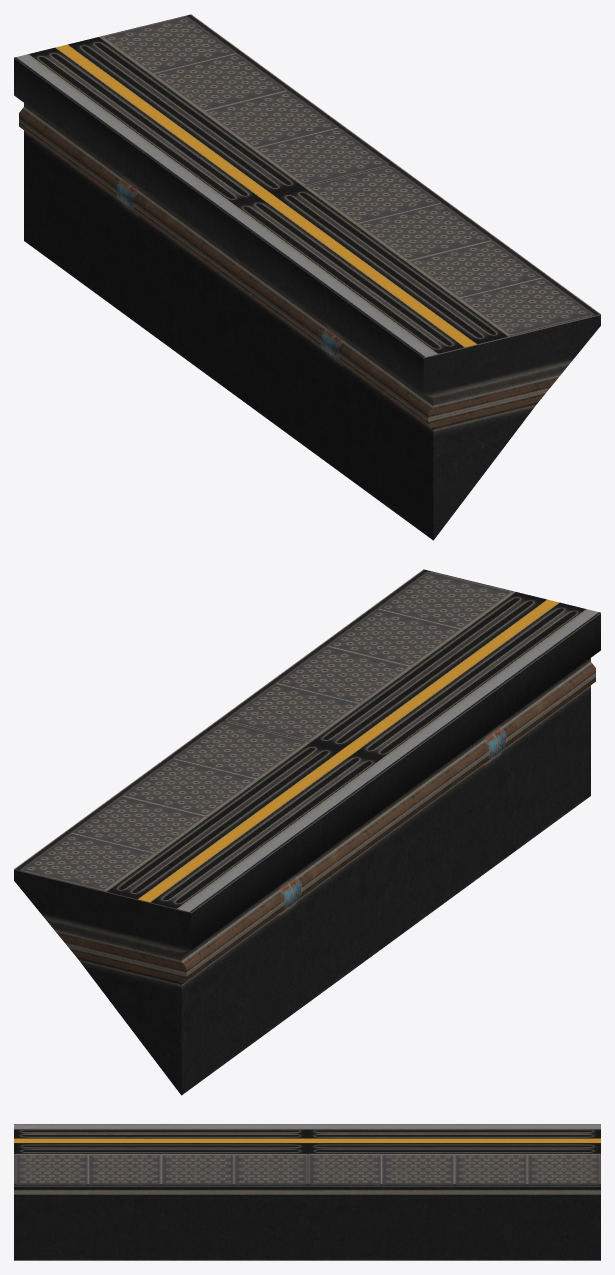
Rendered from SM_FloorBorder8m.FBX.
The picture shows the model from 3 angles, top to bottom: view 1: azimuth 30°, elevation 25°; view 2: azimuth 150°, elevation 25°; view 3: azimuth 270°, elevation 25°; orthographic projection. The views are drawn at different scales.
Visible parts, largest first — view 1: SM_FloorBorder8m; view 2: SM_FloorBorder8m; view 3: SM_FloorBorder8m.
Boxes of the visible parts, x1,y1,x2,y2 form: SM_FloorBorder8m: (14, 14, 600, 540); SM_FloorBorder8m: (14, 569, 600, 1095); SM_FloorBorder8m: (14, 1124, 600, 1260).
Size of the model in its own units: 200 by 800 by 200.
